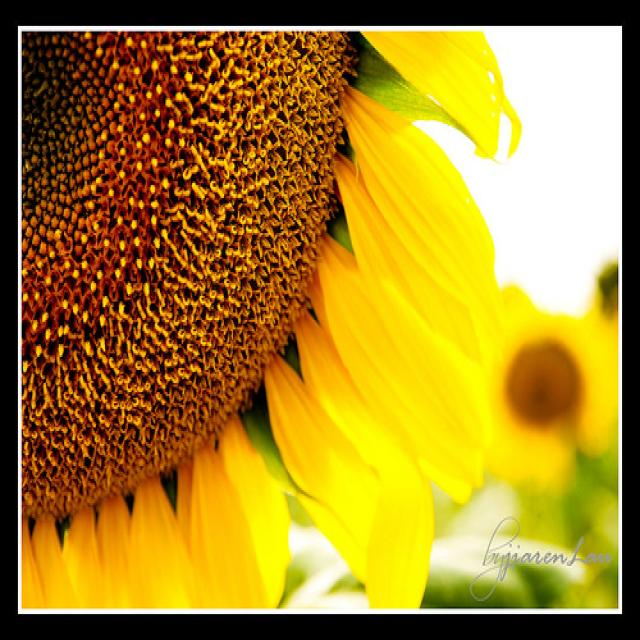sunflower: (0, 0, 526, 633), (478, 300, 624, 505)
